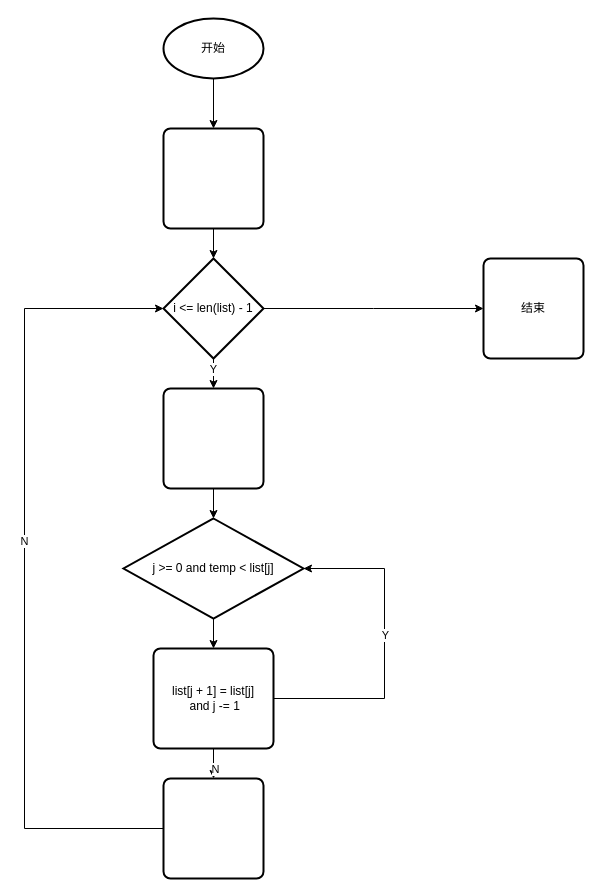
Image size: 602x896. Some labels were removed from this diagram. Each missing label, with the box of its shape:
i = 1: (162, 127, 264, 229)
j = i -1 temp = list[i]: (162, 387, 264, 489)
list[j + 1] = temp: (162, 777, 264, 879)
